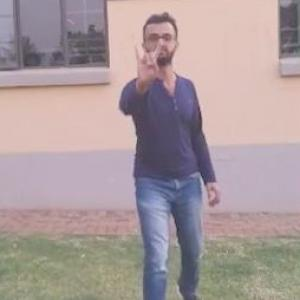takeoff-hand: (128, 31, 166, 85)
